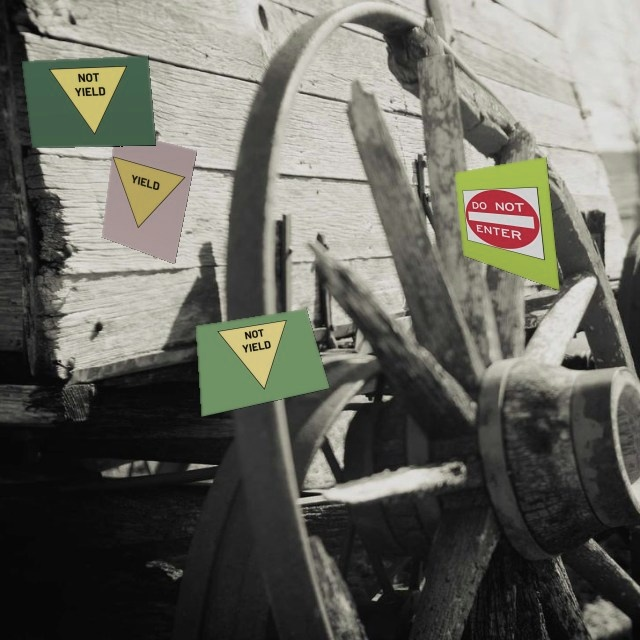DO_NOT_ENTER: (463, 186, 545, 264)
NOT_YIELD: (216, 319, 302, 398), (49, 66, 133, 137)
YIELD: (104, 156, 186, 241)
